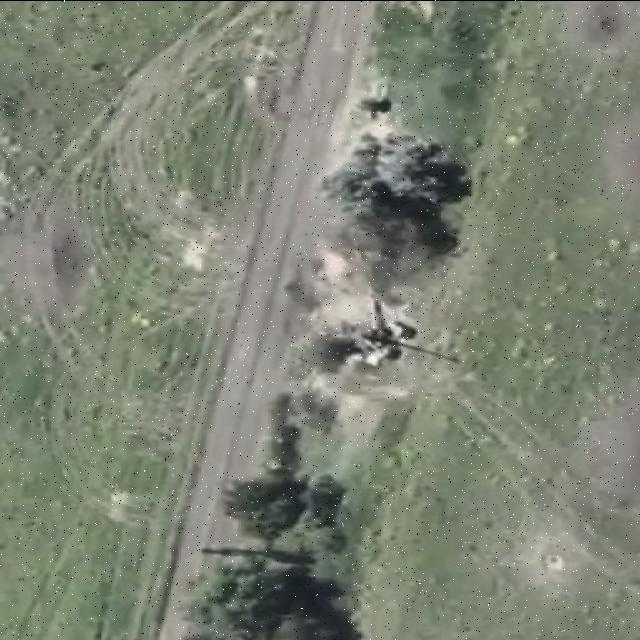ART: (331, 290, 407, 362)
